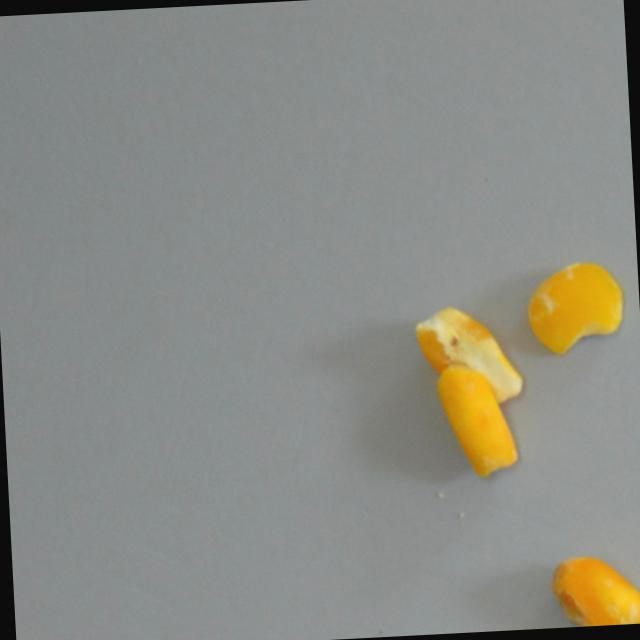dañado: (551, 552, 640, 628)
estandar: (433, 358, 520, 483)
pelicula: (522, 258, 626, 359)
punto_negro: (411, 302, 524, 410)
